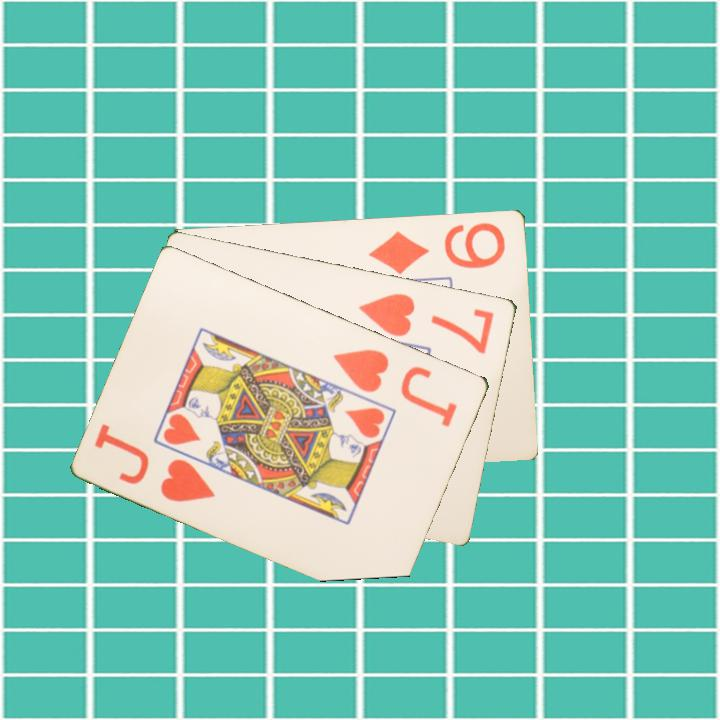7h: (355, 289, 497, 357)
9d: (365, 218, 509, 277)
Jh: (329, 345, 461, 429), (157, 455, 219, 505)
